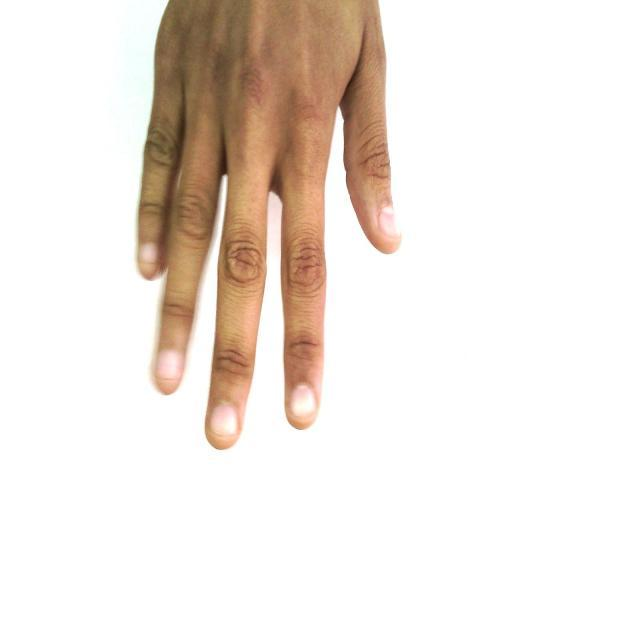Fingernail: (291, 384, 316, 418), (212, 405, 238, 437), (157, 351, 182, 380), (380, 207, 399, 238), (140, 245, 159, 267)
